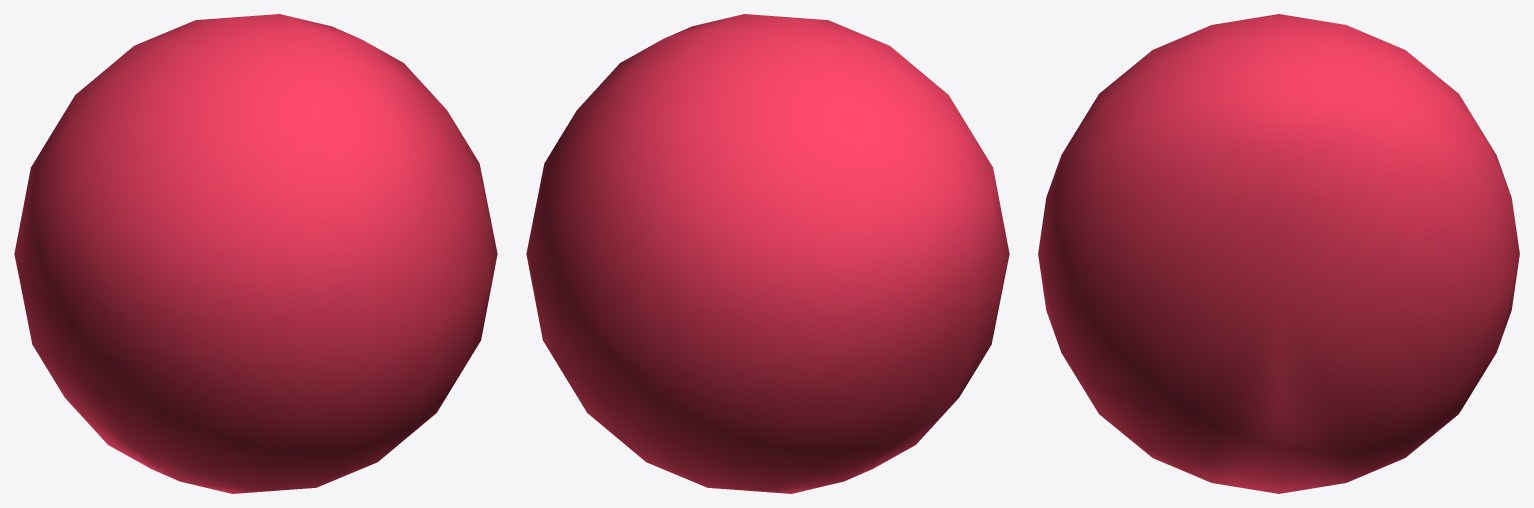
The model's file is shetou.FBX.
The picture shows the model from 3 angles, left to right: view 1: azimuth 30°, elevation 25°; view 2: azimuth 150°, elevation 25°; view 3: azimuth 270°, elevation 25°; orthographic projection.
Visible parts, largest first — view 1: GeoSphere02; view 2: GeoSphere02; view 3: GeoSphere02.
Boxes of the visible parts, bbox=[...] form: GeoSphere02: bbox=[14, 14, 497, 493]; GeoSphere02: bbox=[526, 14, 1009, 493]; GeoSphere02: bbox=[1038, 14, 1519, 493].
Size of the model in its own units: 197 by 197 by 197.
